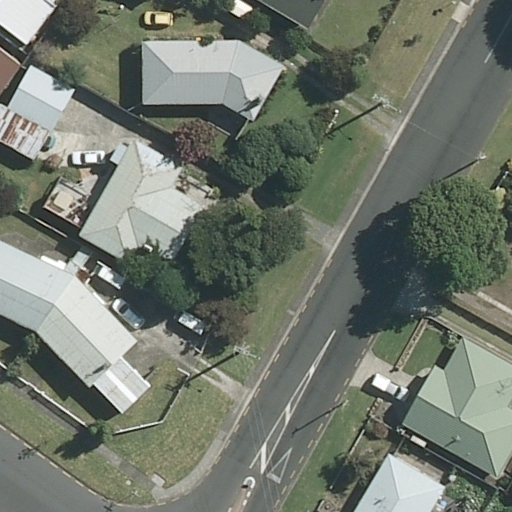DT: (371, 96, 400, 114), (230, 347, 260, 361), (473, 152, 493, 167), (339, 398, 351, 412)
